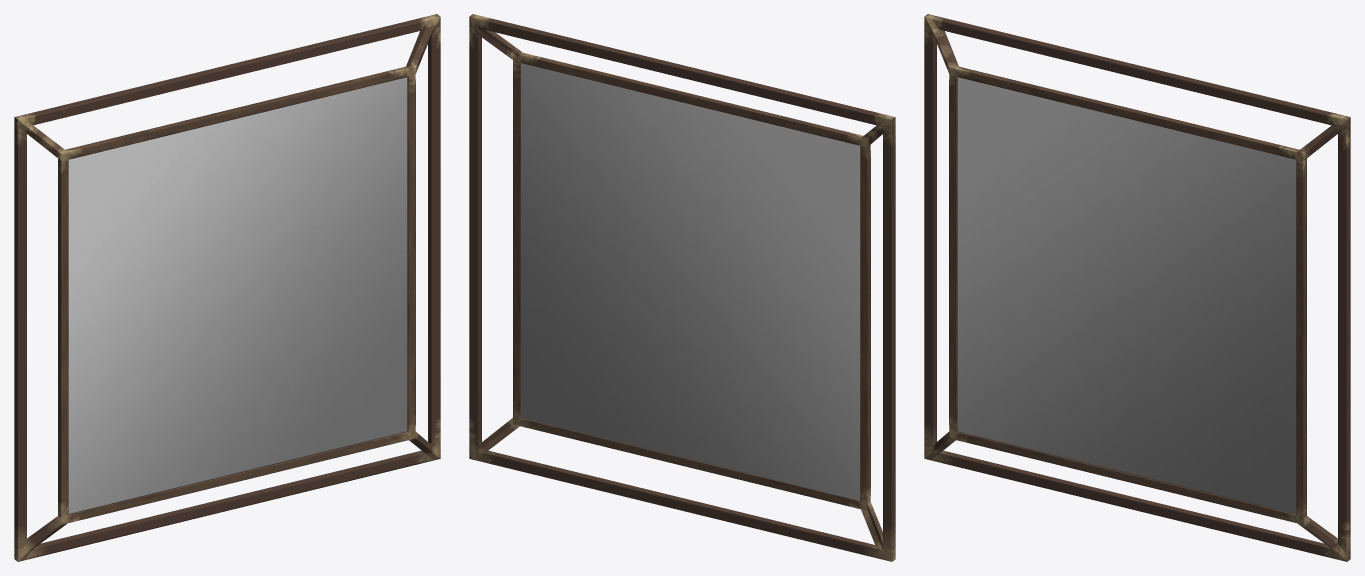
Rendered from abo-B0713T6W1C.glb.
3 views of the same model, side by side, from view 1: azimuth 30°, elevation 25°; view 2: azimuth 150°, elevation 25°; view 3: azimuth 330°, elevation 25° (orthographic).
Bounding box in the file's own units: 0.61 × 0.61 × 0.032.
Materials: 1 (1 with a texture image).
